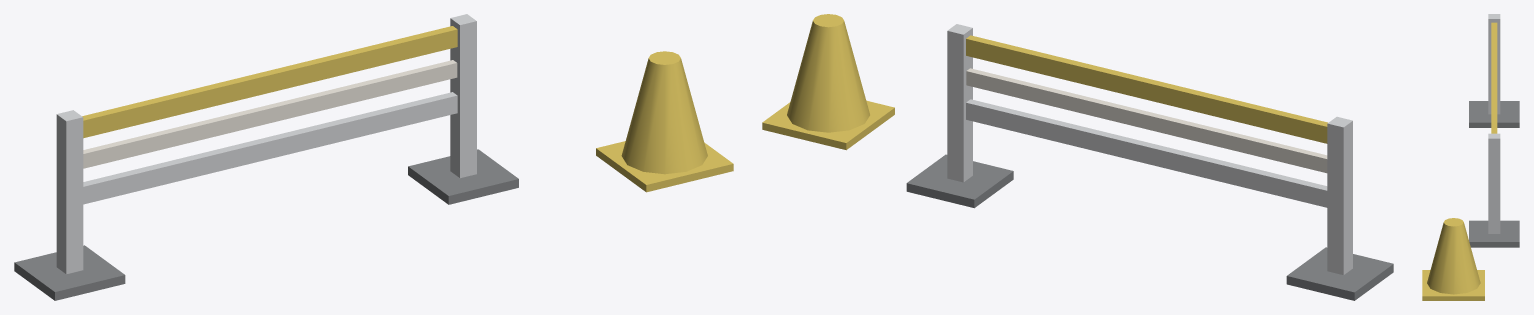
Rendered from barrier.glb.
The picture shows the model from 3 angles, left to right: view 1: azimuth 30°, elevation 25°; view 2: azimuth 150°, elevation 25°; view 3: azimuth 270°, elevation 25°; orthographic projection. The views are drawn at different scales.
Visible parts, largest first — view 1: safety, metal, render, darkMetal; view 2: safety, metal, render, darkMetal; view 3: safety, darkMetal, metal.
Part boxes in pixels (<box>): safety: <box>82,26,733,192</box>; metal: <box>56,14,476,274</box>; render: <box>83,60,457,168</box>; darkMetal: <box>14,149,518,300</box>; safety: <box>762,14,1327,150</box>; metal: <box>947,24,1352,275</box>; render: <box>966,68,1327,173</box>; darkMetal: <box>906,154,1393,300</box>; safety: <box>1422,22,1497,300</box>; darkMetal: <box>1469,101,1519,247</box>; metal: <box>1488,14,1500,233</box>.
Size of the model in its own units: 4.56 by 1.1 by 0.9599.
